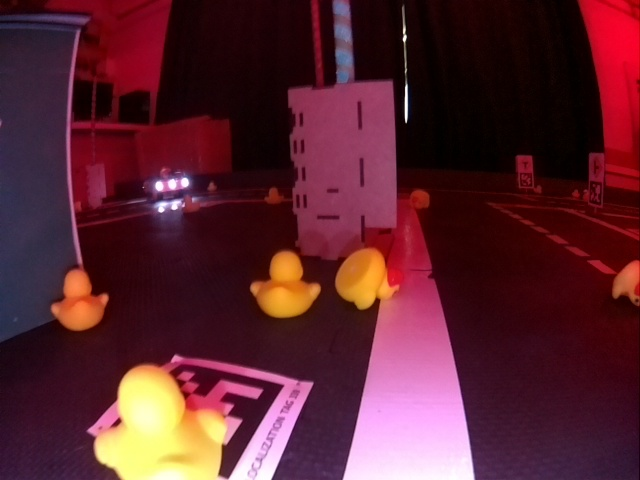Duckie: (93, 377, 204, 477), (253, 252, 320, 316), (51, 269, 109, 328), (338, 250, 400, 302), (410, 188, 430, 209), (264, 188, 283, 204)
Duckiebot: (141, 174, 191, 203)
QR code: (113, 353, 312, 478)
